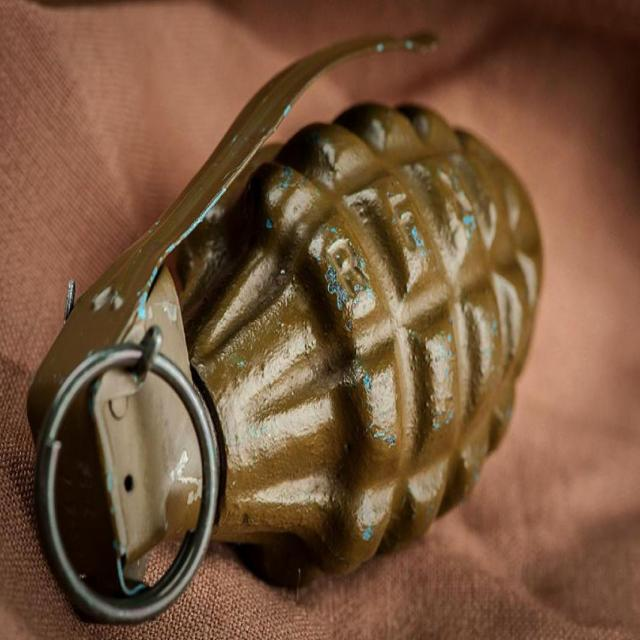grenade: (27, 34, 546, 628)
